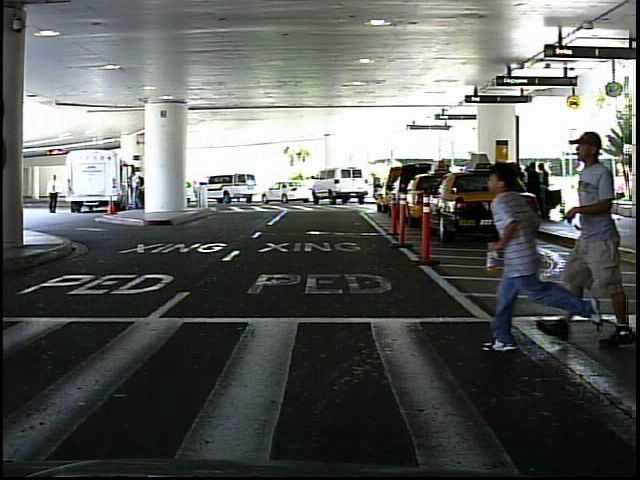person: (491, 155, 582, 358), (588, 172, 607, 218), (47, 173, 64, 217), (370, 171, 385, 203)
